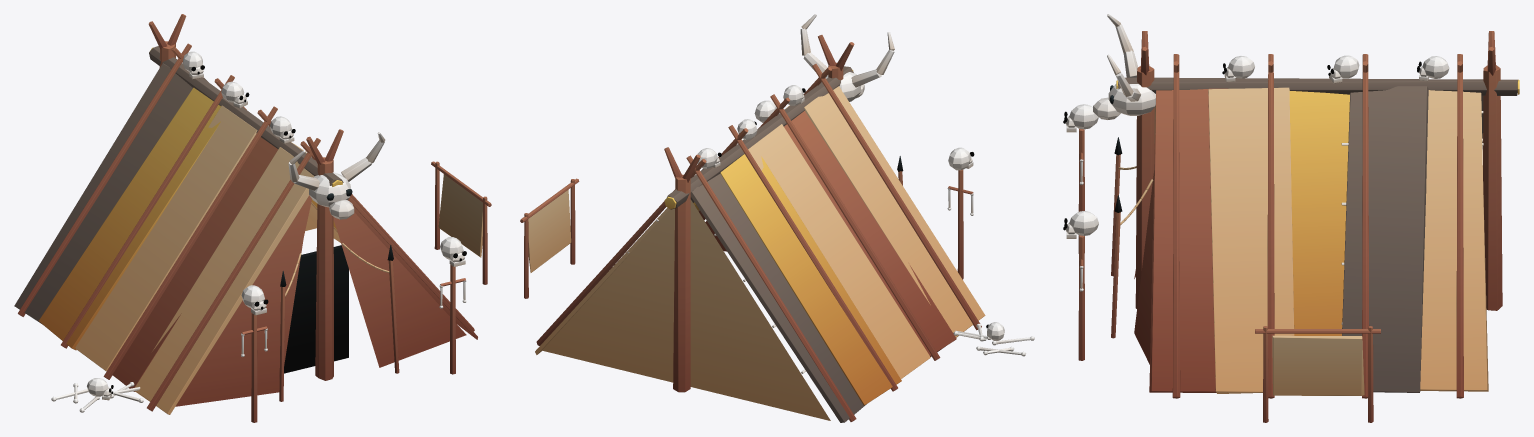
File: ogre_war_camp_tent.glb
3 views of the same model, side by side, from view 1: azimuth 30°, elevation 25°; view 2: azimuth 150°, elevation 25°; view 3: azimuth 270°, elevation 25° (orthographic). The views are drawn at different scales.
Parts seen in each view (by area): view 1: ogre_war_camp_tent; view 2: ogre_war_camp_tent; view 3: ogre_war_camp_tent.
Boxes of the visible parts, x1=… form: ogre_war_camp_tent: x1=14, y1=14, x2=491, y2=422; ogre_war_camp_tent: x1=520, y1=14, x2=1034, y2=422; ogre_war_camp_tent: x1=1063, y1=14, x2=1519, y2=422.
Bounding box in the file's own units: 11 × 5.86 × 8.69.
1 material, 1 textured.
